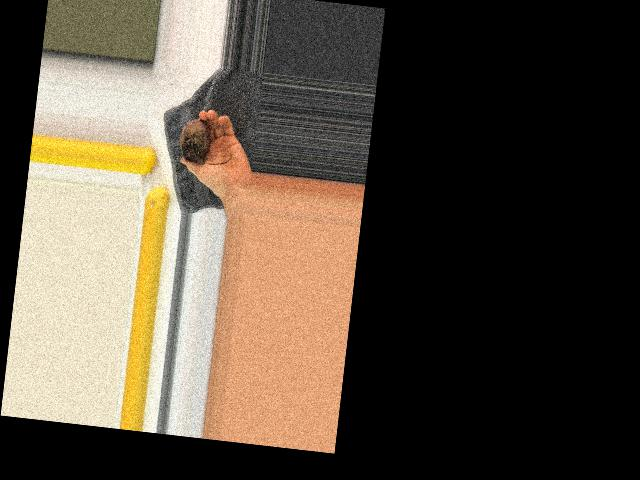beet: (177, 116, 235, 165)
